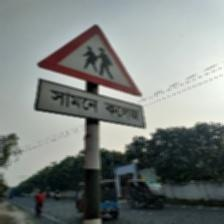College-in-front: (31, 10, 183, 153)
